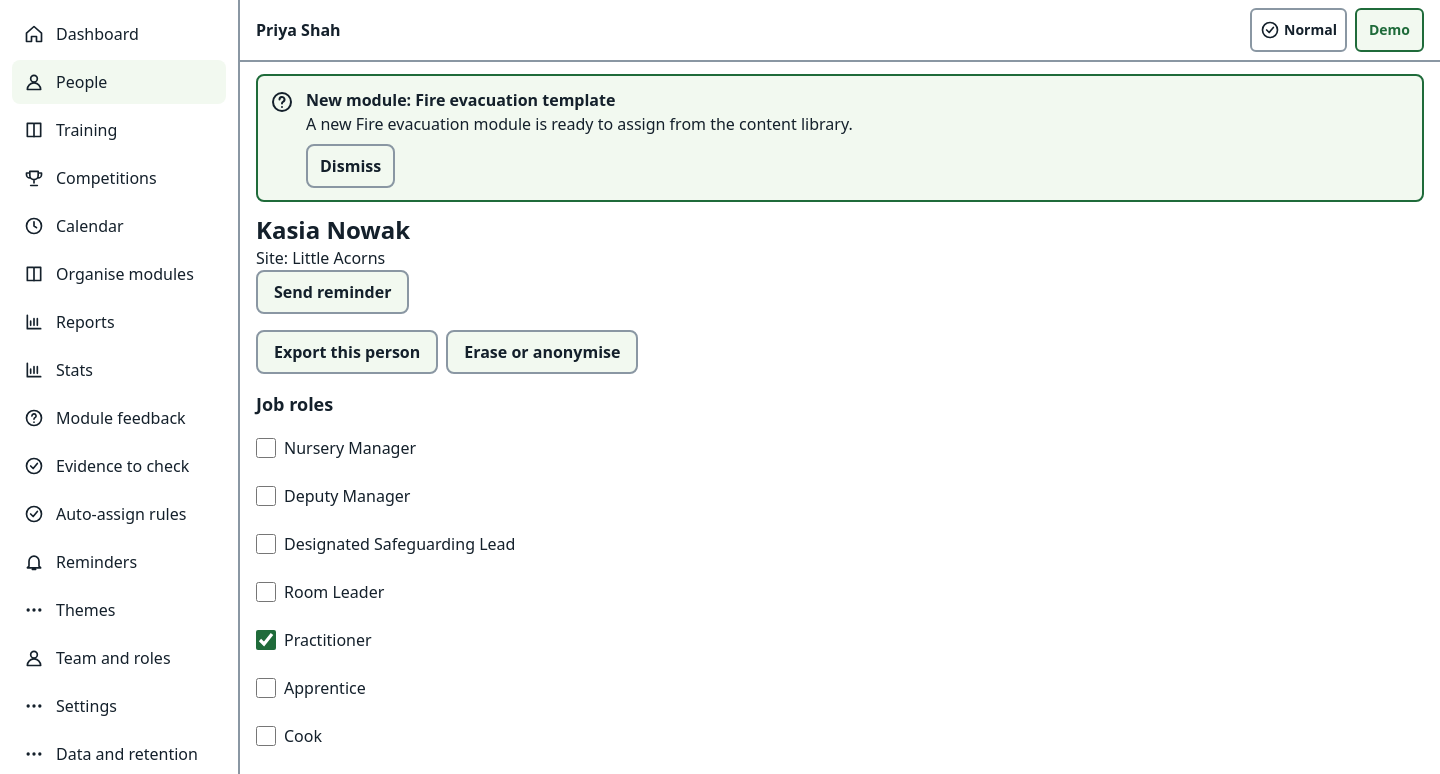
it: C3 Export this person › refuses blank and wrong codes without downloading
The image size is (1440, 774).
Expected: the heading "Kasia Nowak" is shown, [256, 214, 410, 246]
Click the button "Export this person".
click(347, 352)  # box [256, 330, 438, 374]
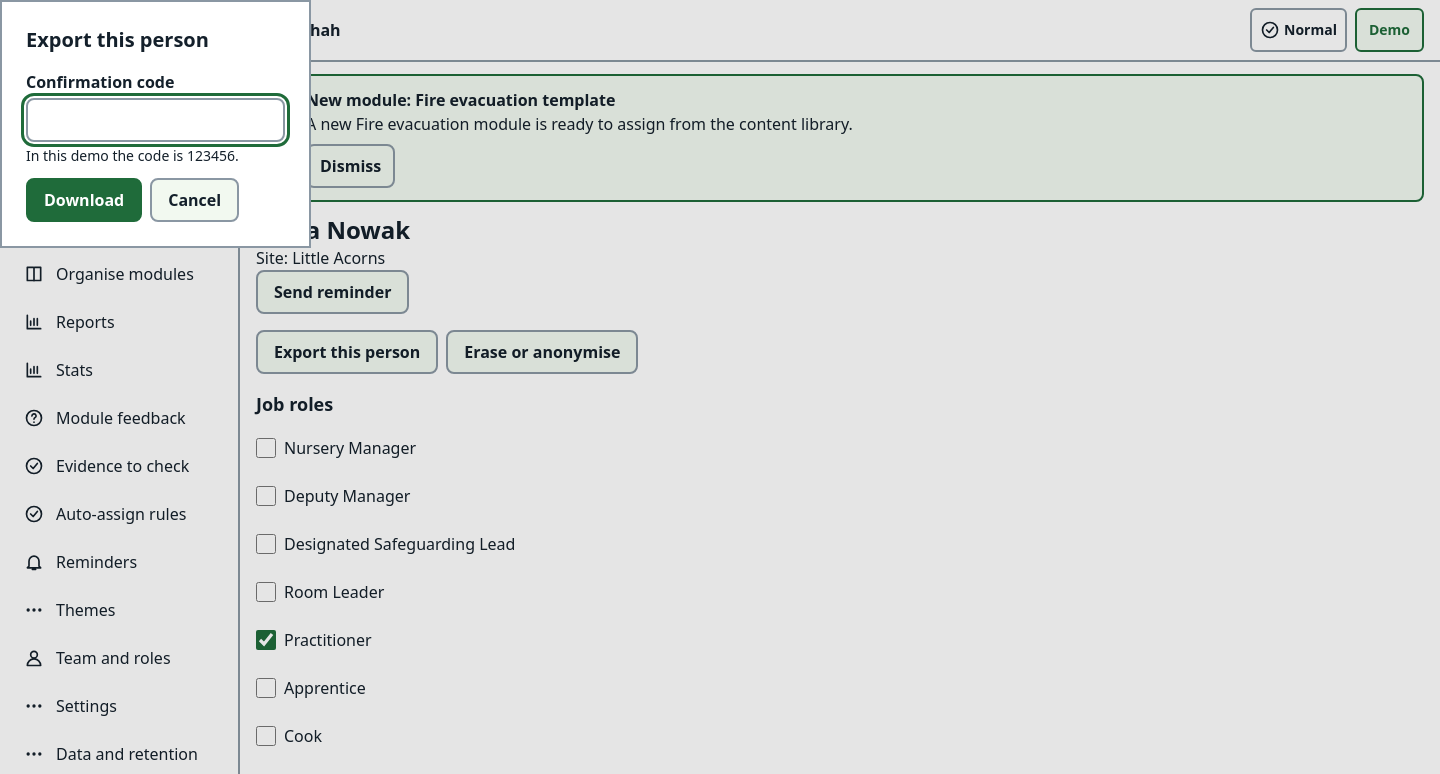
Click the button "Download".
click(84, 200)  # box [26, 178, 142, 222]
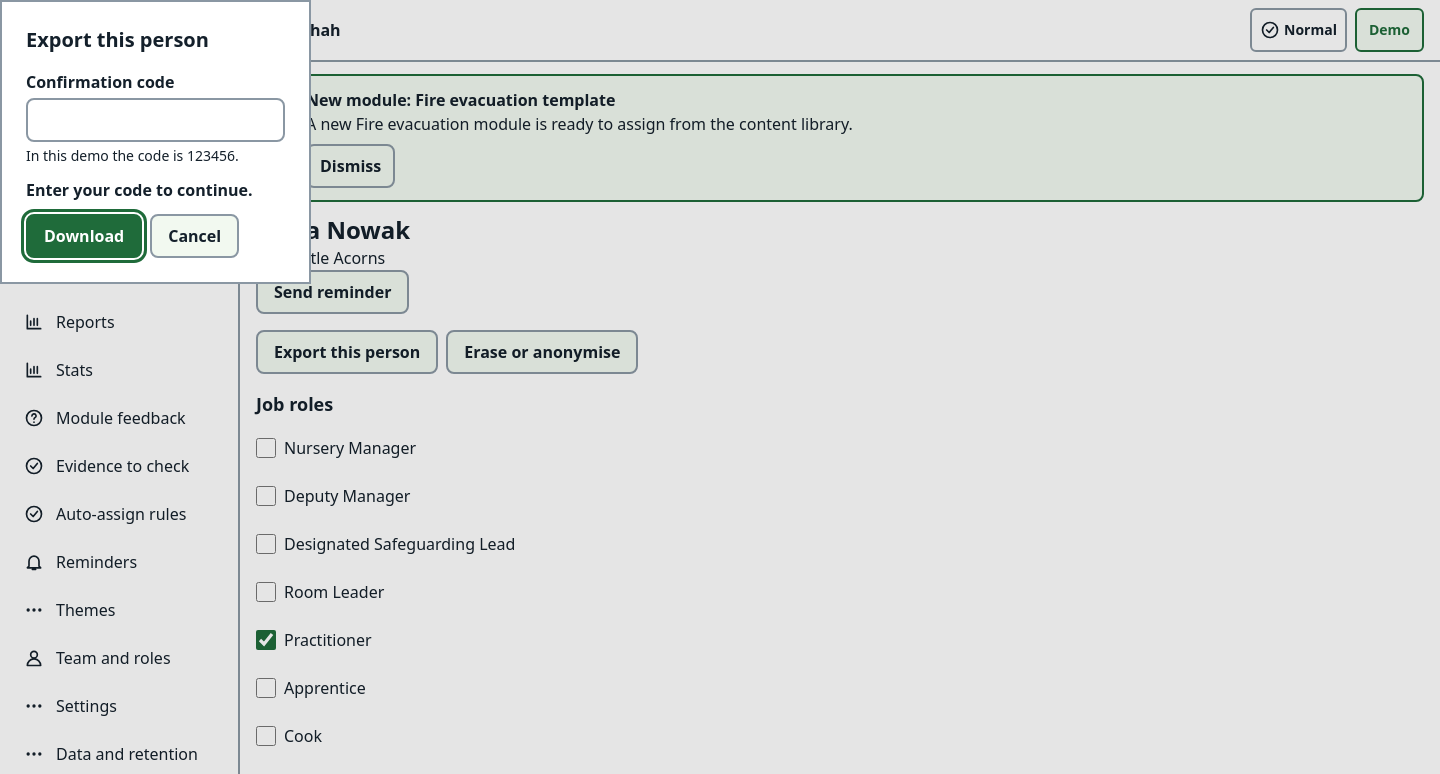
Result: the message reads "Enter your code to continue." at [26, 179, 253, 201]
Type "000000" into the field labelled "Confirmation code".
click(156, 120); type("000000")  # box [26, 98, 285, 142]
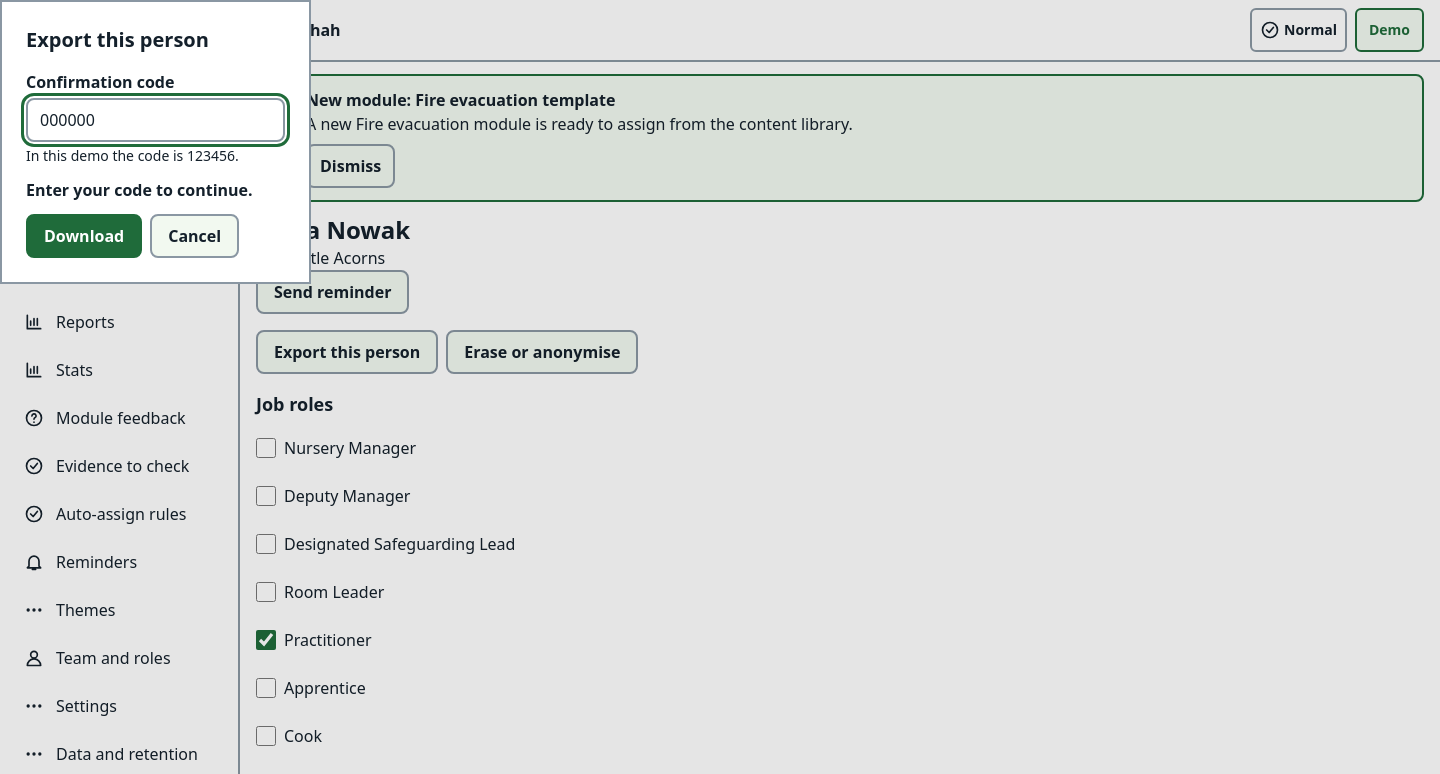
Click the button "Download".
click(84, 236)  # box [26, 214, 142, 258]
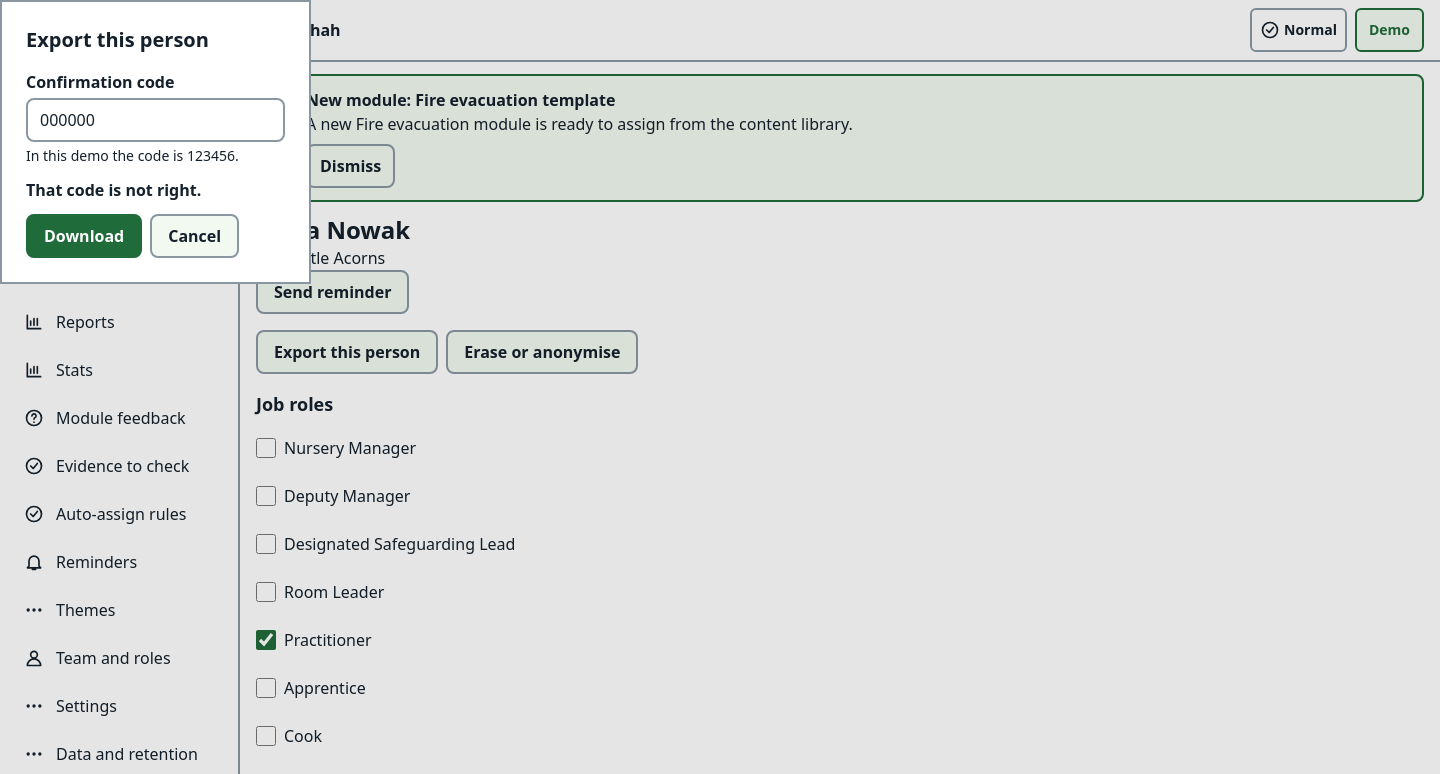
Result: the message reads "That code is not right." at [26, 179, 201, 201]
